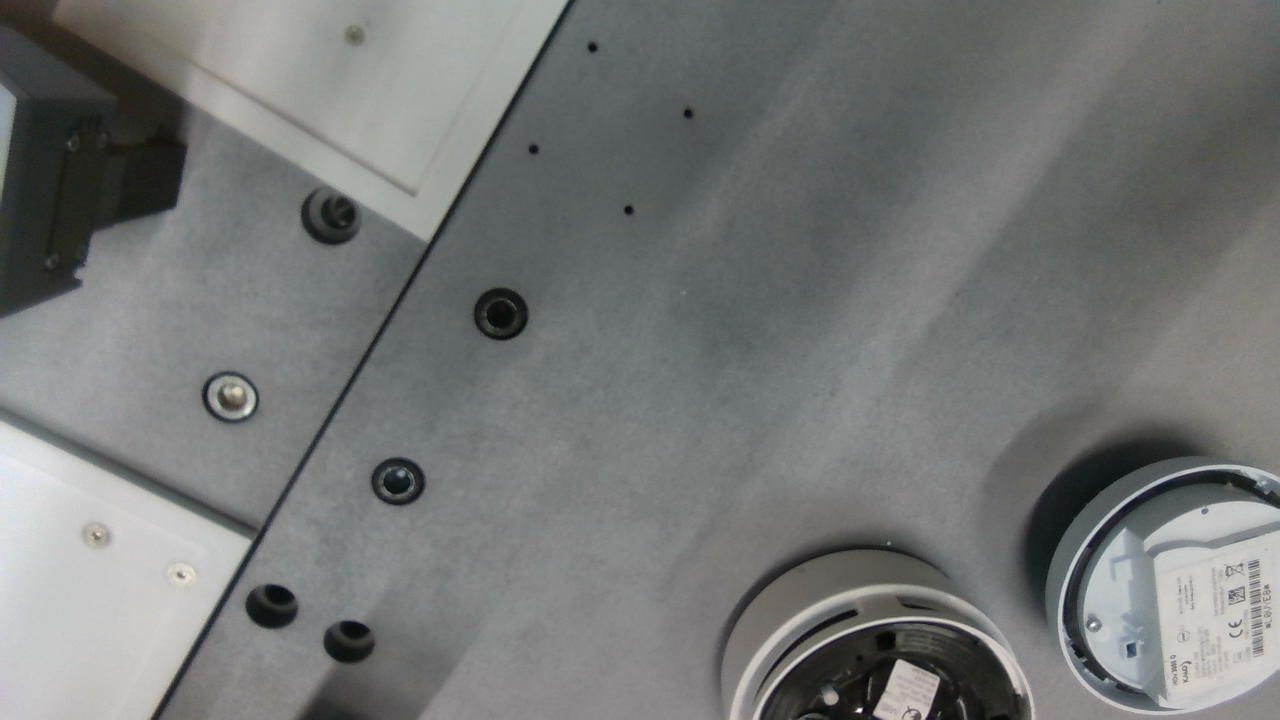HexScrew: (1086, 619, 1103, 636)
